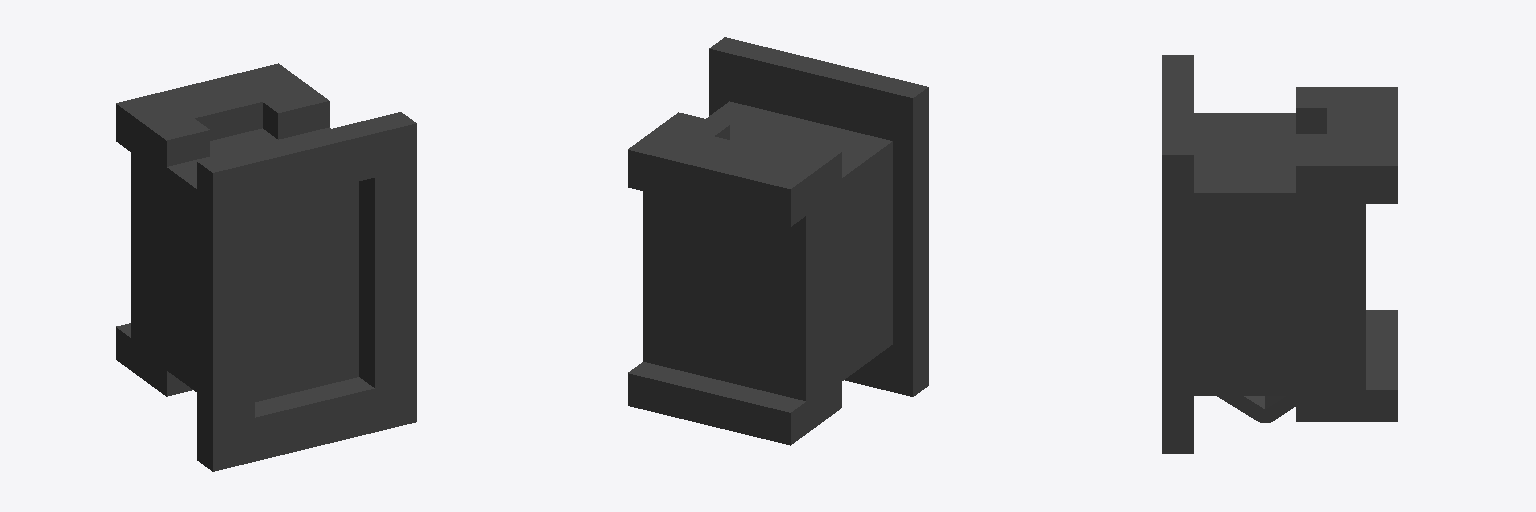
File: original-7.obj
3 renders of one model, left to right at view 1: azimuth 30°, elevation 25°; view 2: azimuth 150°, elevation 25°; view 3: azimuth 270°, elevation 25°, orthographic.
Parts seen in each view (by area): view 1: mesh16/mesh16-geometry/material_0#mesh16-geometry; view 2: mesh16/mesh16-geometry/material_0#mesh16-geometry; view 3: mesh16/mesh16-geometry/material_0#mesh16-geometry.
Boxes of the visible parts, x1=… form: mesh16/mesh16-geometry/material_0#mesh16-geometry: x1=116, y1=63, x2=416, y2=471; mesh16/mesh16-geometry/material_0#mesh16-geometry: x1=628, y1=37, x2=928, y2=445; mesh16/mesh16-geometry/material_0#mesh16-geometry: x1=1162, y1=55, x2=1397, y2=453.
Size of the model in its own units: 1.02 by 1.45 by 1.02.